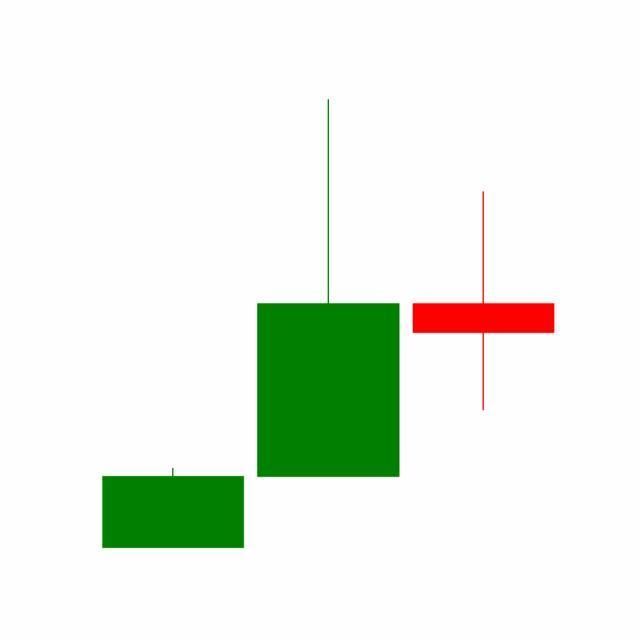Spinning Top: (406, 189, 562, 413)
